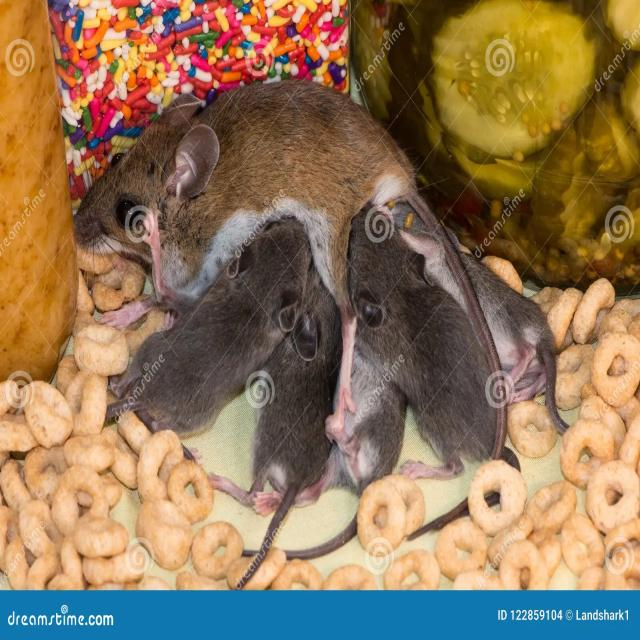rat: (68, 77, 481, 300), (93, 205, 322, 460), (339, 203, 517, 499), (371, 177, 561, 413), (205, 266, 350, 530)
